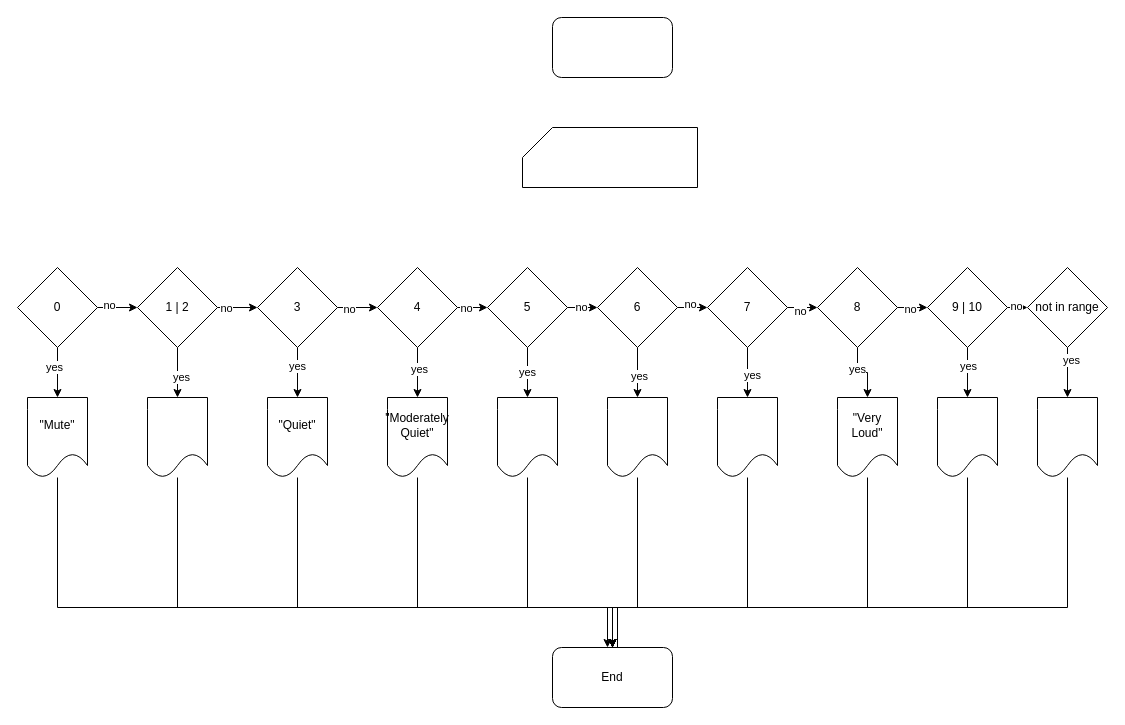
Image size: 1125x725. Some labels were removed from this diagram. Each missing label, with the centre of its shape:
"Extremly Loud": (x=967, y=437)
"Invalid": (x=1067, y=437)
"Loud": (x=747, y=437)
"Medium": (x=527, y=437)
"Moderately Loud": (x=637, y=437)
"Volume level": (x=610, y=157)
Start: (x=612, y=47)
Very Quiet: (x=177, y=437)
